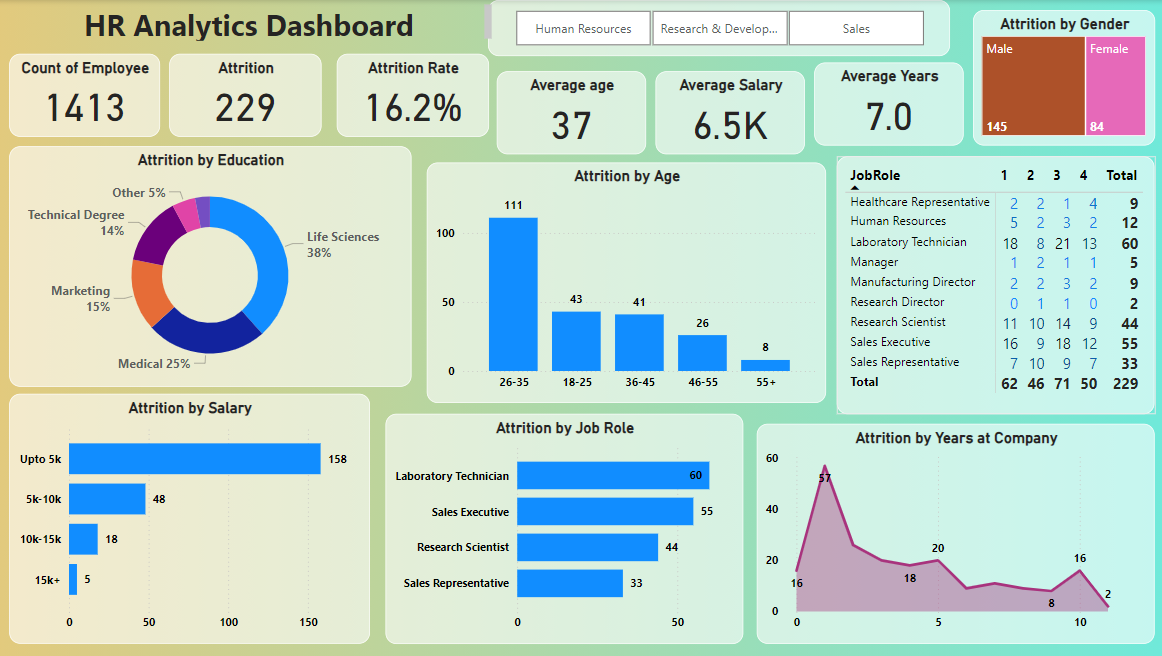

The page's visual inventory and layout, read from the dashboard file:
{"tool":"powerbi","page":{"name":"Page 1","canvas":[1280,720],"ordinal":0},"visuals":[{"type":"card","title":"Count of Employee","fields":{"Values":["CountNonNull(HR_Analytics (2).EmpID)"]},"box":[12.9,58.6,165.7,91.4],"z":0},{"type":"card","title":"Attrition ","fields":{"Values":["Sum(HR_Analytics (2).Attritioncount)"]},"box":[188.6,58.6,167.1,91.4],"z":1000},{"type":"card","title":"Attrition Rate","fields":{"Values":["HR_Analytics (2).AttritionRate"]},"box":[371.4,58.6,167.1,91.4],"z":2000},{"type":"card","title":"Average age ","fields":{"Values":["Avg(HR_Analytics (2).Age)"]},"box":[547.1,78.6,164.3,91.4],"z":3000},{"type":"card","title":"Average Salary ","fields":{"Values":["Avg(HR_Analytics (2).MonthlyIncome)"]},"box":[721.4,78.6,164.3,91.4],"z":4000},{"type":"card","title":"Average Years","fields":{"Values":["Avg(HR_Analytics (2).YearsAtCompany)"]},"box":[895.7,68.6,164.3,91.4],"z":5000},{"type":"donutChart","title":"Attrition by Education","fields":{"Category":["HR_Analytics (2).EducationField"],"Y":["Sum(HR_Analytics (2).Attritioncount)"]},"box":[12.9,160,441.4,264.3],"z":6000},{"type":"clusteredColumnChart","title":"Attrition by Age","fields":{"Category":["HR_Analytics (2).AgeGroup"],"Y":["Sum(HR_Analytics (2).Attritioncount)"]},"box":[470,178.6,438.6,264.3],"z":7000},{"type":"pivotTable","fields":{"Rows":["HR_Analytics (2).JobRole"],"Columns":["HR_Analytics (2).JobSatisfaction"],"Values":["Sum(HR_Analytics (2).Attritioncount)"]},"box":[921.4,171.4,348.6,282.9],"z":8000},{"type":"barChart","title":"Attrition by Salary","fields":{"Category":["HR_Analytics (2).SalarySlab"],"Y":["Sum(HR_Analytics (2).Attritioncount)"]},"box":[12.9,432.9,395.7,274.3],"z":9000},{"type":"barChart","title":"Attrition by Job Role","fields":{"Category":["HR_Analytics (2).JobRole"],"Y":["Sum(HR_Analytics (2).Attritioncount)"]},"box":[425.7,454.3,392.9,252.9],"z":10000},{"type":"areaChart","title":"Attrition by Years  at Company","fields":{"Category":["HR_Analytics (2).YearsAtCompany"],"Y":["Sum(HR_Analytics (2).Attritioncount)"]},"box":[832.9,465.7,437.1,241.4],"z":11000},{"type":"treemap","title":"Attrition by Gender","fields":{"Group":["HR_Analytics (2).Gender"],"Values":["Sum(HR_Analytics (2).Attritioncount)"]},"box":[1070,11.4,200,148.6],"z":12000},{"type":"slicer","fields":{"Values":["HR_Analytics (2).Department"]},"box":[538.6,0,507.1,61.4],"z":13000},{"type":"textbox","box":[12.9,0,534.3,50],"z":14000}]}

Visuals, with their boxes in screenshot pixels (x1, y1, x2, y2), scaled from the page's 1280x720 canvas onto the 1162x656 screenshot:
"Count of Employee" card: (left=12, top=53, right=162, bottom=137)
"Attrition " card: (left=171, top=53, right=323, bottom=137)
"Attrition Rate" card: (left=337, top=53, right=489, bottom=137)
"Average age " card: (left=497, top=72, right=646, bottom=155)
"Average Salary " card: (left=655, top=72, right=804, bottom=155)
"Average Years" card: (left=813, top=63, right=962, bottom=146)
"Attrition by Education" donutChart: (left=12, top=146, right=412, bottom=387)
"Attrition by Age" clusteredColumnChart: (left=427, top=163, right=825, bottom=404)
pivotTable - HR_Analytics (2).JobRole x HR_Analytics (2).JobSatisfaction: (left=836, top=156, right=1153, bottom=414)
"Attrition by Salary" barChart: (left=12, top=394, right=371, bottom=644)
"Attrition by Job Role" barChart: (left=386, top=414, right=743, bottom=644)
"Attrition by Years  at Company" areaChart: (left=756, top=424, right=1153, bottom=644)
"Attrition by Gender" treemap: (left=971, top=10, right=1153, bottom=146)
slicer - HR_Analytics (2).Department: (left=489, top=0, right=949, bottom=56)
textbox: (left=12, top=0, right=497, bottom=46)
